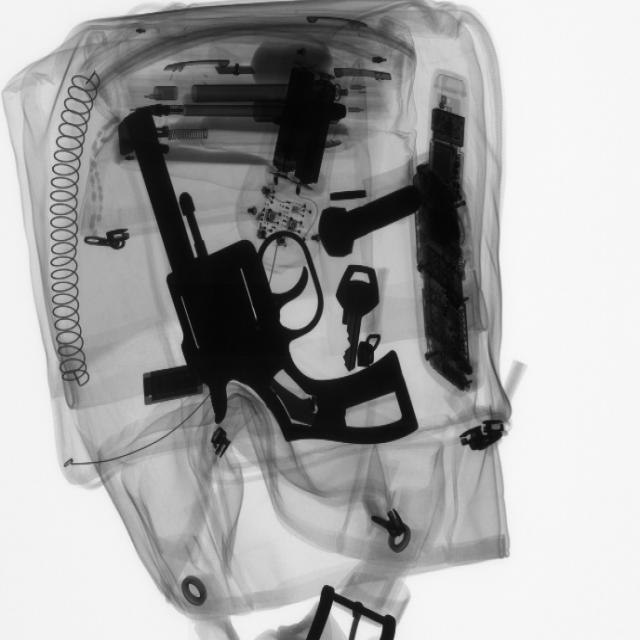GUN: (135, 107, 436, 458)
